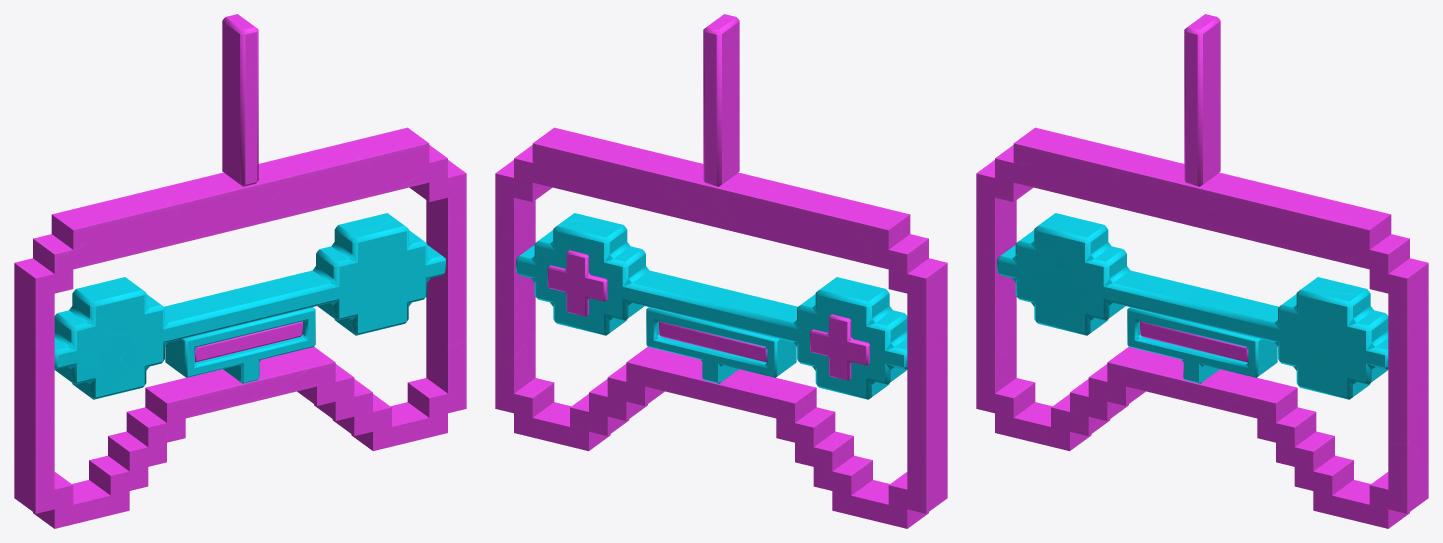
The model's file is Prop_Sign_Controller_x1.fbx.
3 views of the same model, side by side, from view 1: azimuth 30°, elevation 25°; view 2: azimuth 150°, elevation 25°; view 3: azimuth 330°, elevation 25° (orthographic).
Visible parts, largest first — view 1: Prop_Sign_Controller_x1; view 2: Prop_Sign_Controller_x1; view 3: Prop_Sign_Controller_x1.
Part boxes in pixels (left/top/right/bottom): Prop_Sign_Controller_x1: left=14, top=14, right=466, bottom=528; Prop_Sign_Controller_x1: left=495, top=14, right=947, bottom=528; Prop_Sign_Controller_x1: left=976, top=14, right=1428, bottom=528.
Bounding box in the file's own units: 41.29 × 41.29 × 4.16.
